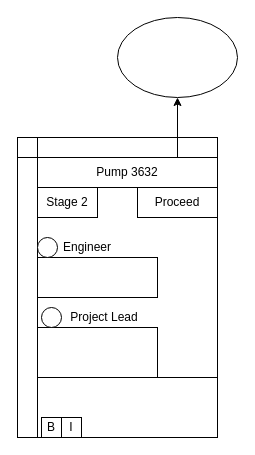
Some shapes in this 255 by 455 pixel diagram are drawn without their labels. Each missing label, with the centre of its shape:
Button only available for User2: the point at 177,57
Its ok for me to move this: the point at 97,277
Then we get engineer 2 to review: the point at 97,352
